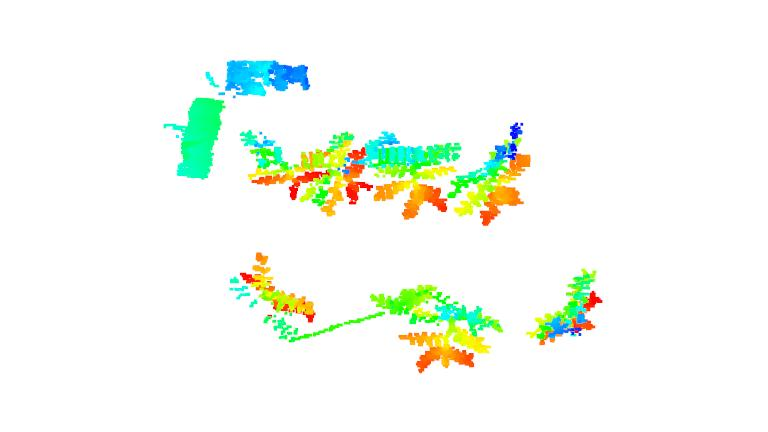chickpea: (400, 291, 507, 373), (227, 252, 317, 340), (447, 134, 531, 228), (371, 140, 462, 222), (238, 128, 327, 200), (526, 269, 603, 349), (306, 131, 373, 218), (368, 282, 440, 316)
